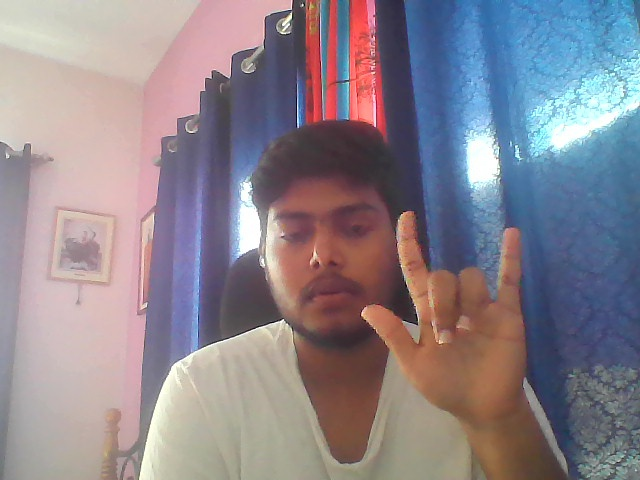I Love You: (354, 205, 541, 418)
